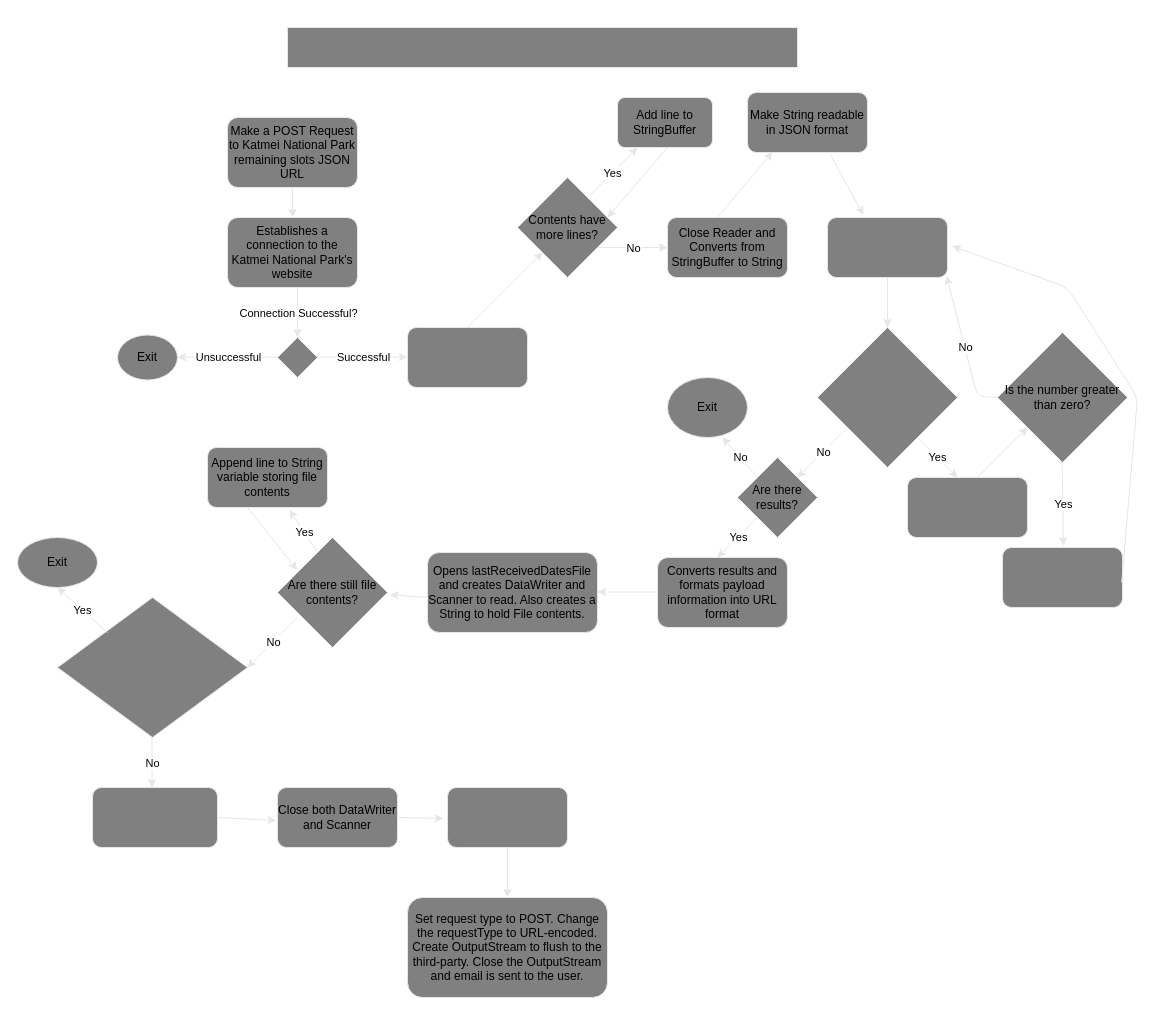
Image size: 1163x1015. Some labels were removed from this diagram. Here are the shapes that lost their labels. From the top down, the box of each, then its label:
(286, 26, 798, 68): CampResortsByMonth UML Action Diagram
(826, 216, 948, 278): Get the next day in the contents
(406, 326, 528, 388): Creates StringBuffer to hold contents from the request
(816, 326, 958, 468): Does the day exist?
(906, 476, 1028, 538): Get the remaining number of slots for this day
(1002, 546, 1122, 608): Append it to all relevant Strings
(56, 596, 248, 738): Is the file content equal to the currently received relevant dates?
(92, 786, 218, 848): Replace current information into file using DataWriter
(446, 786, 568, 848): Open connection to third-party email sender
